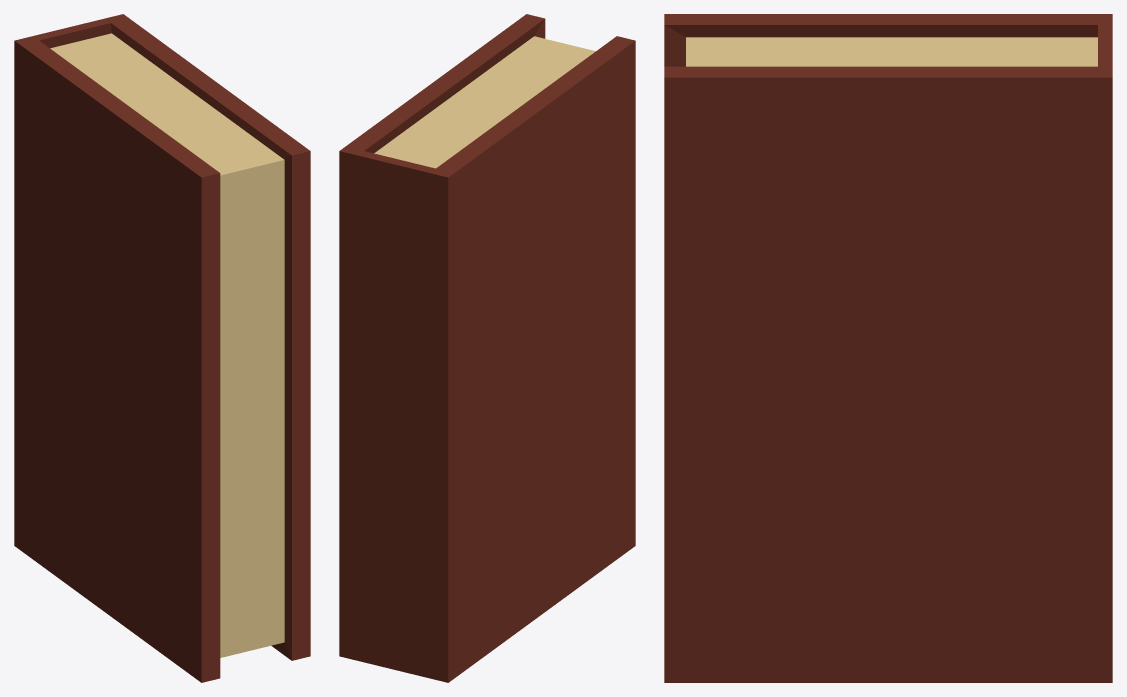
The model's file is Book1_039.fbx.
3 views of the same model, side by side, from view 1: azimuth 30°, elevation 25°; view 2: azimuth 150°, elevation 25°; view 3: azimuth 270°, elevation 25° (orthographic). The views are drawn at different scales.
Parts seen in each view (by area): view 1: Book1.039; view 2: Book1.039; view 3: Book1.039.
Part boxes in pixels (x1,y1,x2,y2): Book1.039: (14, 14, 310, 682); Book1.039: (339, 14, 635, 682); Book1.039: (664, 14, 1112, 682).
Bounding box in the file's own units: 10.24 × 45.39 × 30.47.
